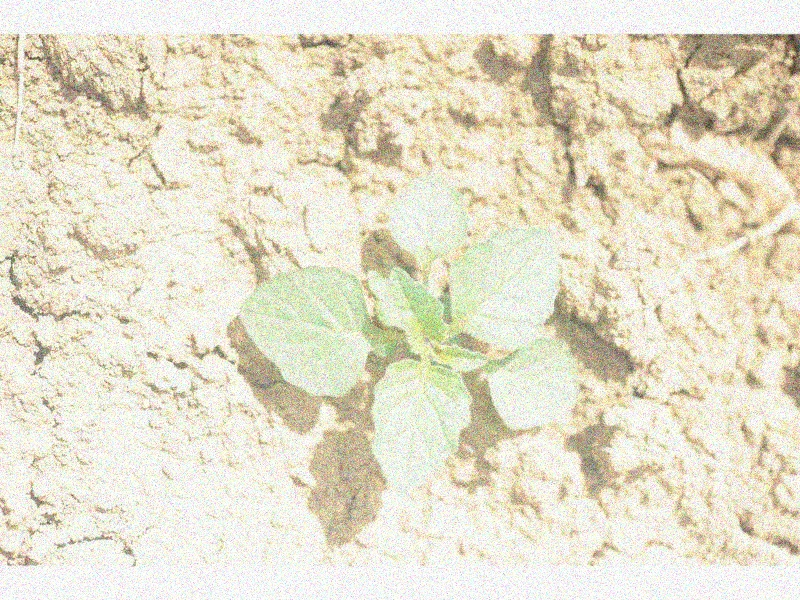nightshade: (240, 171, 581, 497)
